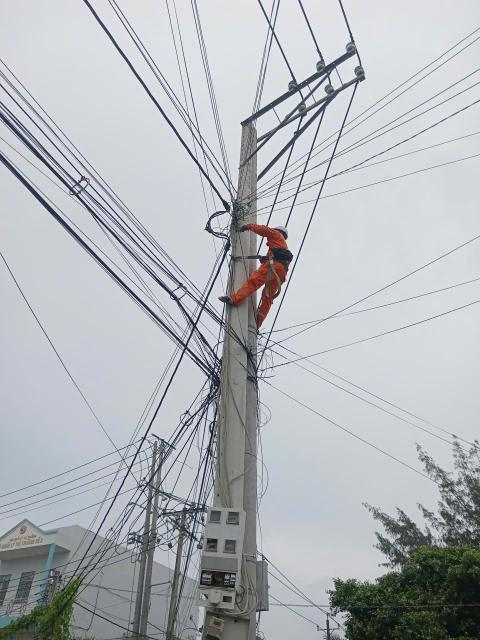gloves: (271, 221, 294, 243), (235, 219, 253, 235)
harness: (258, 249, 299, 274)
shoes: (216, 291, 237, 307)
